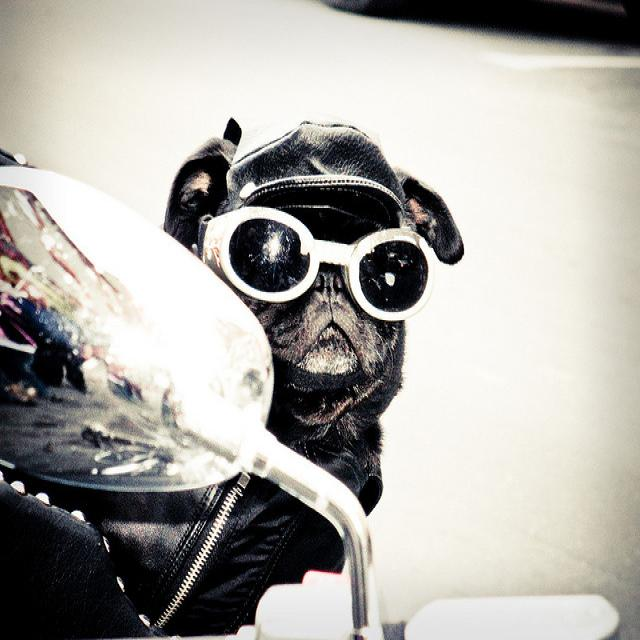motor: (1, 165, 382, 630)
